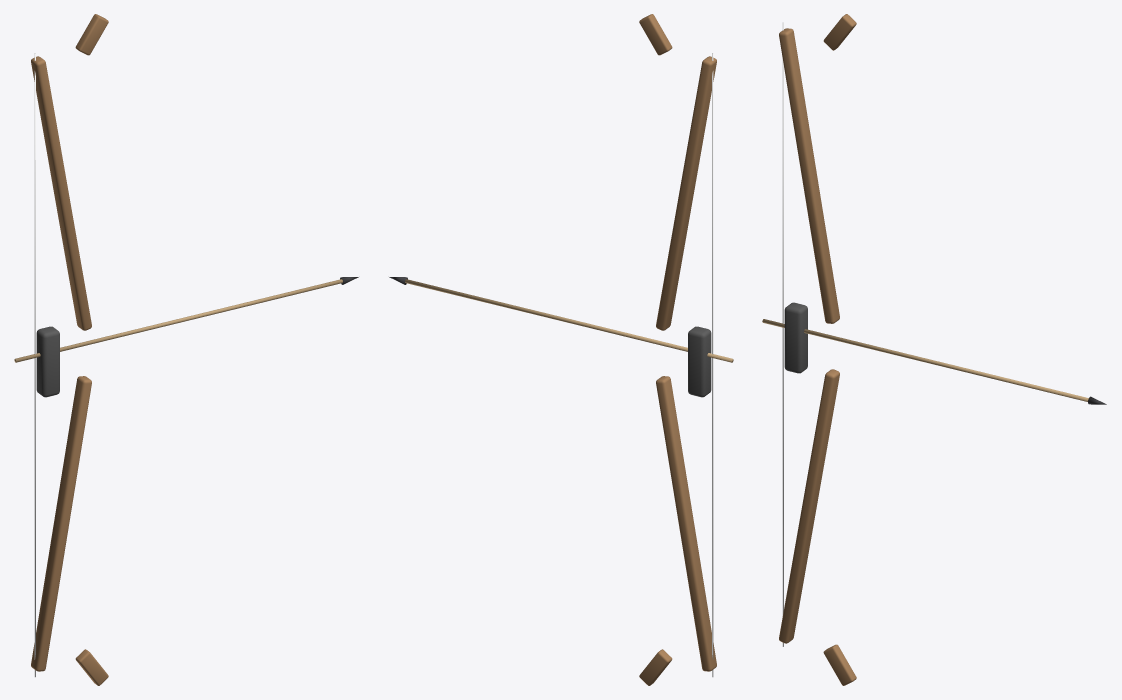
Rendered from SM_Longbow.glb.
3 views of the same model, side by side, from view 1: azimuth 30°, elevation 25°; view 2: azimuth 150°, elevation 25°; view 3: azimuth 330°, elevation 25° (orthographic).
Visible parts, largest first — view 1: SM_Longbow; view 2: SM_Longbow; view 3: SM_Longbow.
Boxes of the visible parts, x1,y1,x2,y2 form: SM_Longbow: [14, 14, 358, 685]; SM_Longbow: [389, 14, 733, 685]; SM_Longbow: [762, 14, 1106, 685].
Size of the model in its own units: 0.785 by 1.46 by 0.035.
